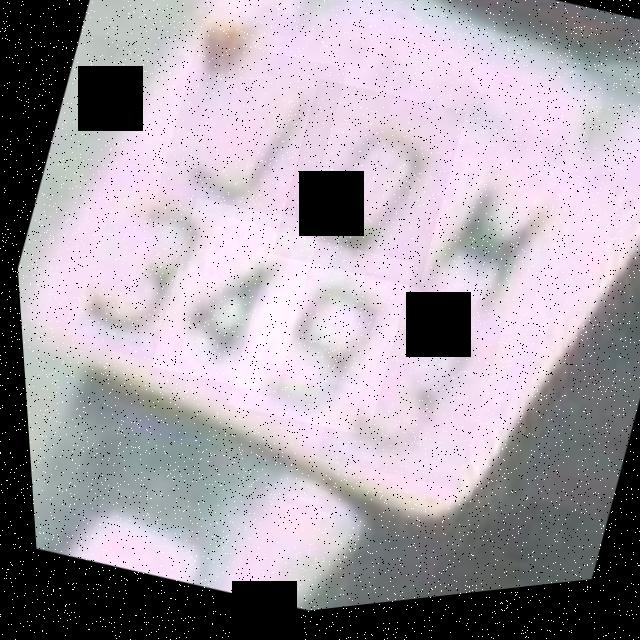3: (26, 133, 245, 385), (299, 269, 512, 512)
4: (137, 191, 325, 410)
9: (213, 226, 418, 456)
J: (143, 27, 353, 253)
N: (382, 135, 583, 364)
O: (258, 73, 472, 311)
